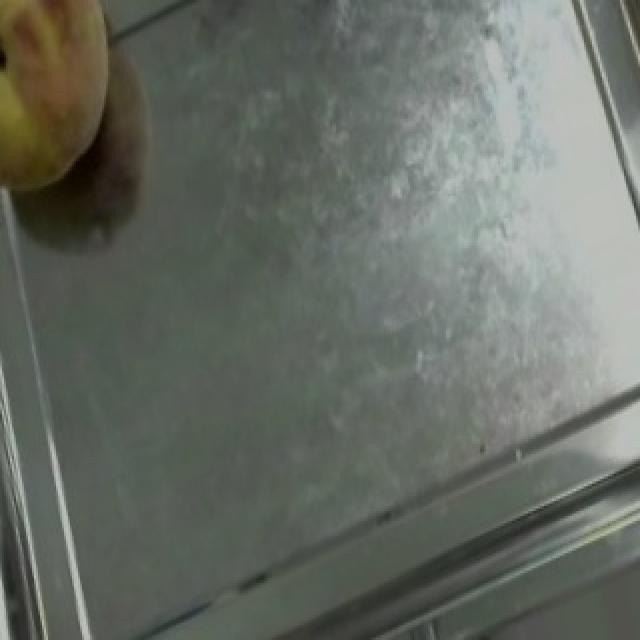Fruit: (0, 0, 150, 213)
